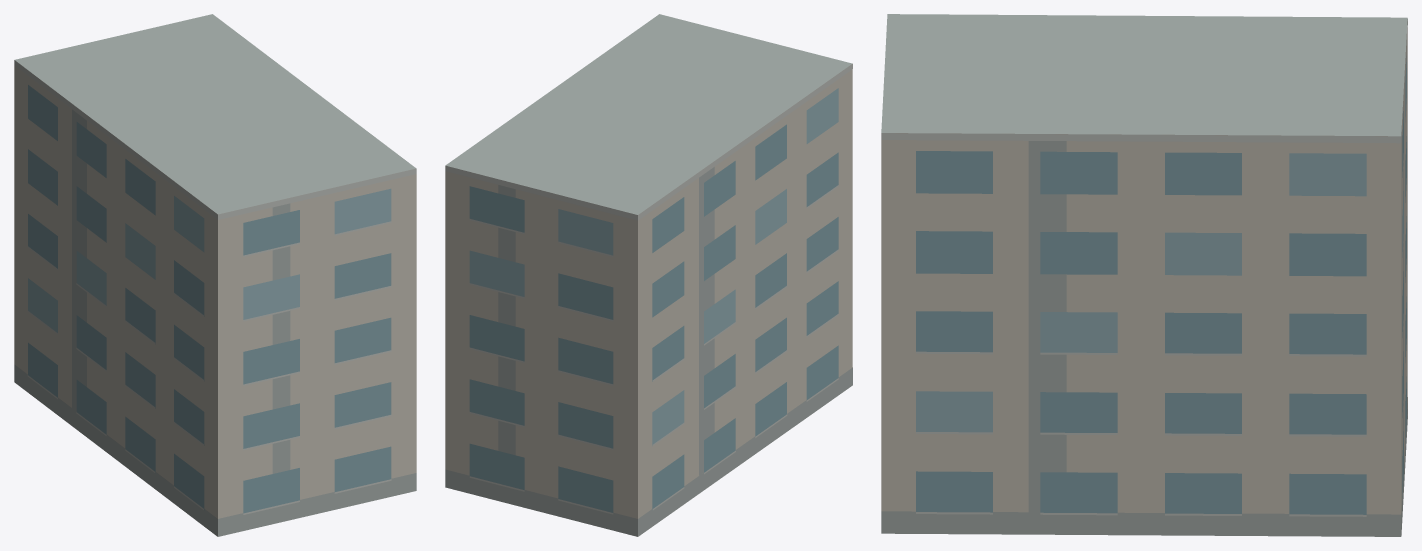
The model's file is survey-upis-32500846.glb.
The picture shows the model from 3 angles, left to right: view 1: azimuth 30°, elevation 25°; view 2: azimuth 150°, elevation 25°; view 3: azimuth 270°, elevation 25°; orthographic projection. The views are drawn at different scales.
Visible parts, largest first — view 1: survey-upis-32500846.tmp; view 2: survey-upis-32500846.tmp; view 3: survey-upis-32500846.tmp.
Boxes of the visible parts, x1=… form: survey-upis-32500846.tmp: x1=14, y1=14, x2=416, y2=536; survey-upis-32500846.tmp: x1=445, y1=14, x2=852, y2=536; survey-upis-32500846.tmp: x1=881, y1=14, x2=1407, y2=536.
Size of the model in its own units: 9.17 by 14 by 16.68.
